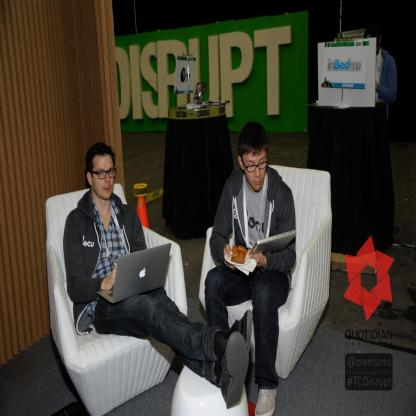board: (96, 241, 169, 304), (248, 229, 296, 255), (203, 99, 231, 104)
